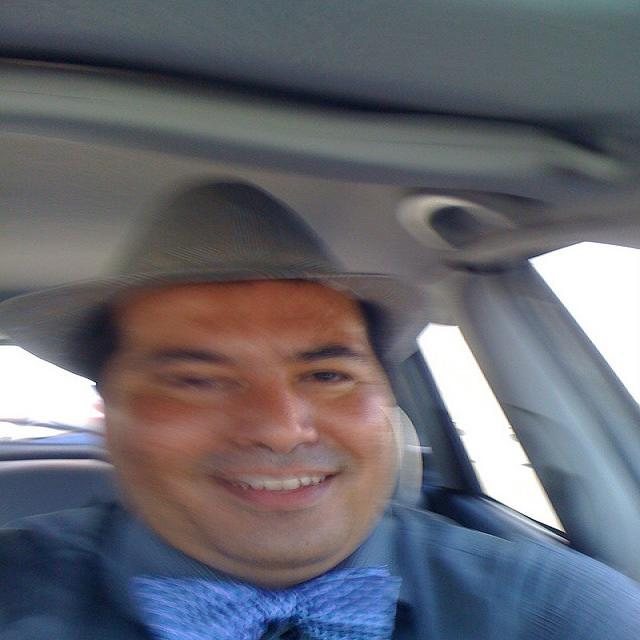Vehicle: (0, 1, 640, 632)
